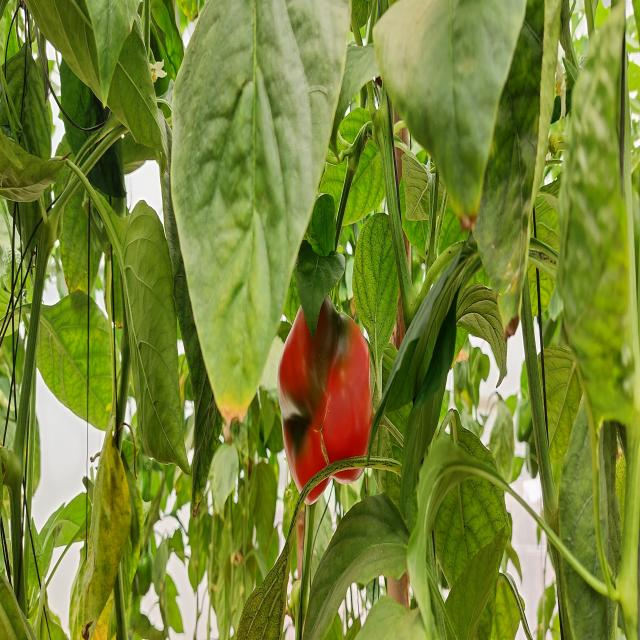Red-Ready-to-Harvest: (267, 290, 381, 502)
